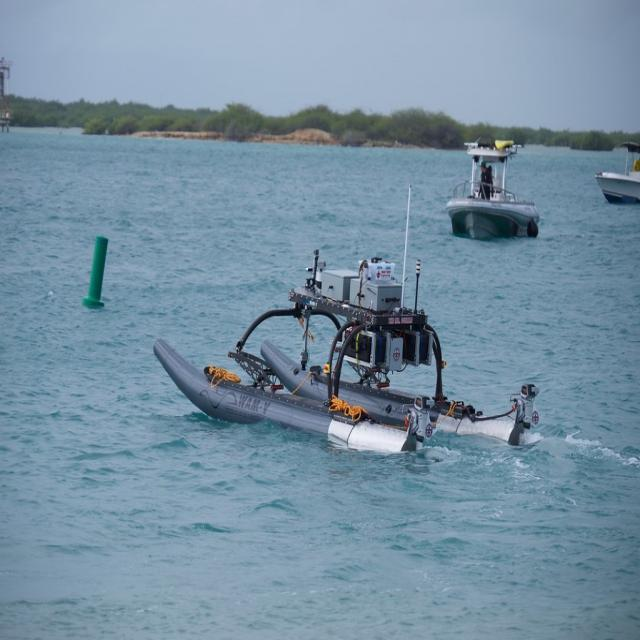Green_Buoy: (76, 227, 115, 313)
Wam_V: (140, 222, 542, 498)
